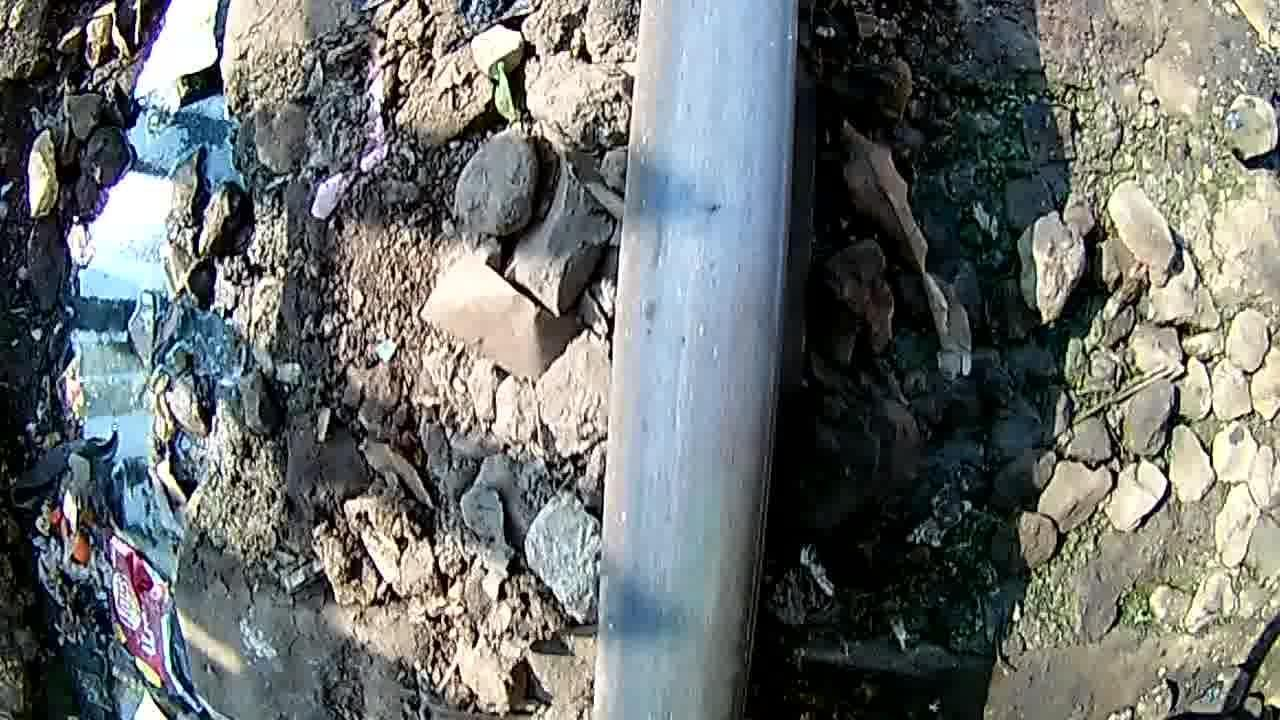crack: (593, 2, 801, 720)
